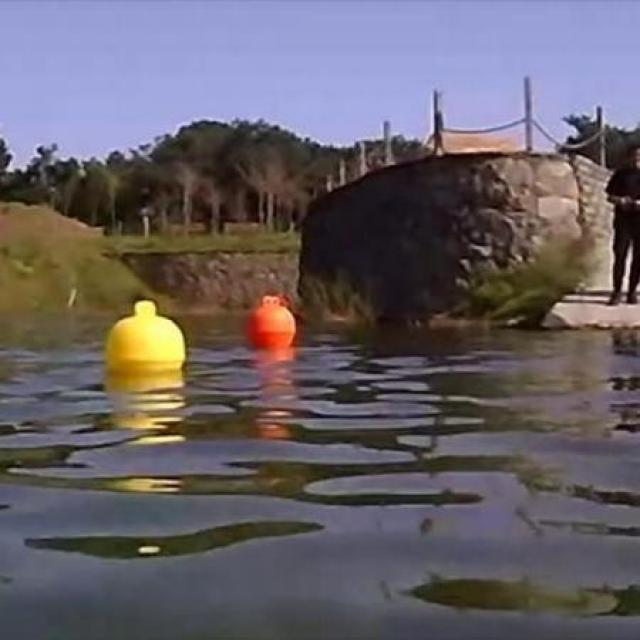buoy: (104, 300, 188, 378), (247, 294, 296, 344)
